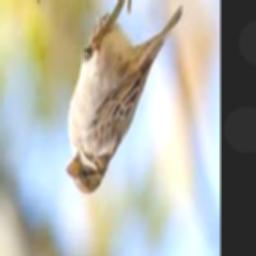Sparrow: (65, 1, 182, 196)
